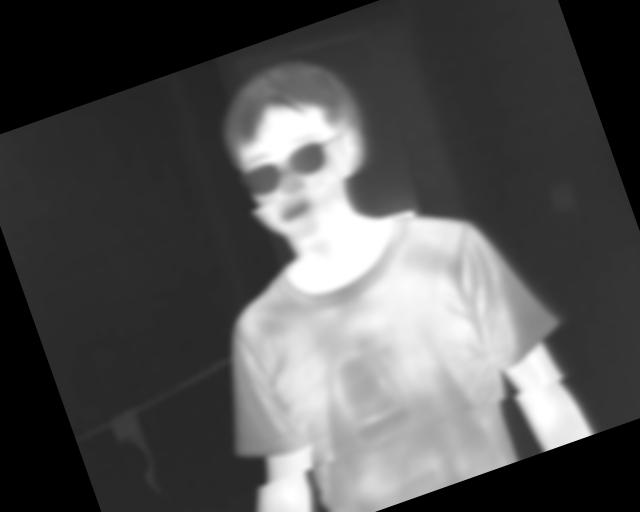face: (200, 40, 394, 254)
